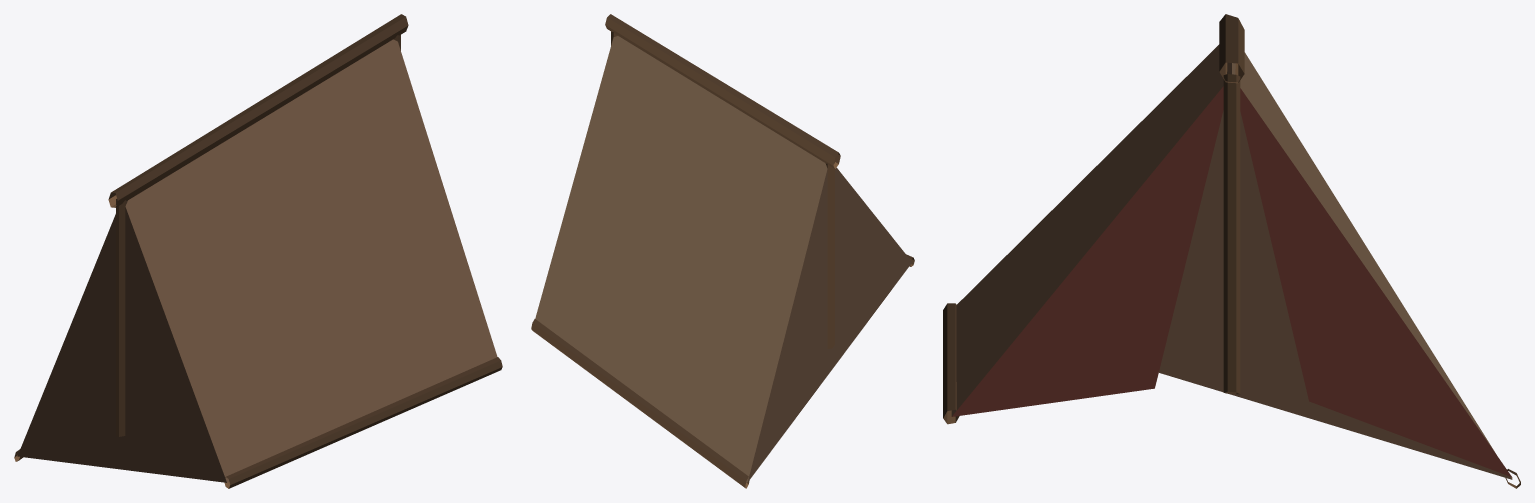
The picture shows the model from 3 angles, left to right: view 1: azimuth 30°, elevation 25°; view 2: azimuth 150°, elevation 25°; view 3: azimuth 270°, elevation 25°; orthographic projection. The views are drawn at different scales.
Parts seen in each view (by area): view 1: 1d57c9798c5bb88c7939296f8ed089730ce25d7b7174d8aae80e7543a6ba; view 2: 1d57c9798c5bb88c7939296f8ed089730ce25d7b7174d8aae80e7543a6ba; view 3: 1d57c9798c5bb88c7939296f8ed089730ce25d7b7174d8aae80e7543a6ba.
Boxes of the visible parts, bbox=[...] form: 1d57c9798c5bb88c7939296f8ed089730ce25d7b7174d8aae80e7543a6ba: bbox=[14, 14, 502, 488]; 1d57c9798c5bb88c7939296f8ed089730ce25d7b7174d8aae80e7543a6ba: bbox=[531, 14, 914, 488]; 1d57c9798c5bb88c7939296f8ed089730ce25d7b7174d8aae80e7543a6ba: bbox=[943, 14, 1520, 488].
Bounding box in the file's own units: 3.2 × 4.8 × 4.12.
2 materials, 1 textured.
